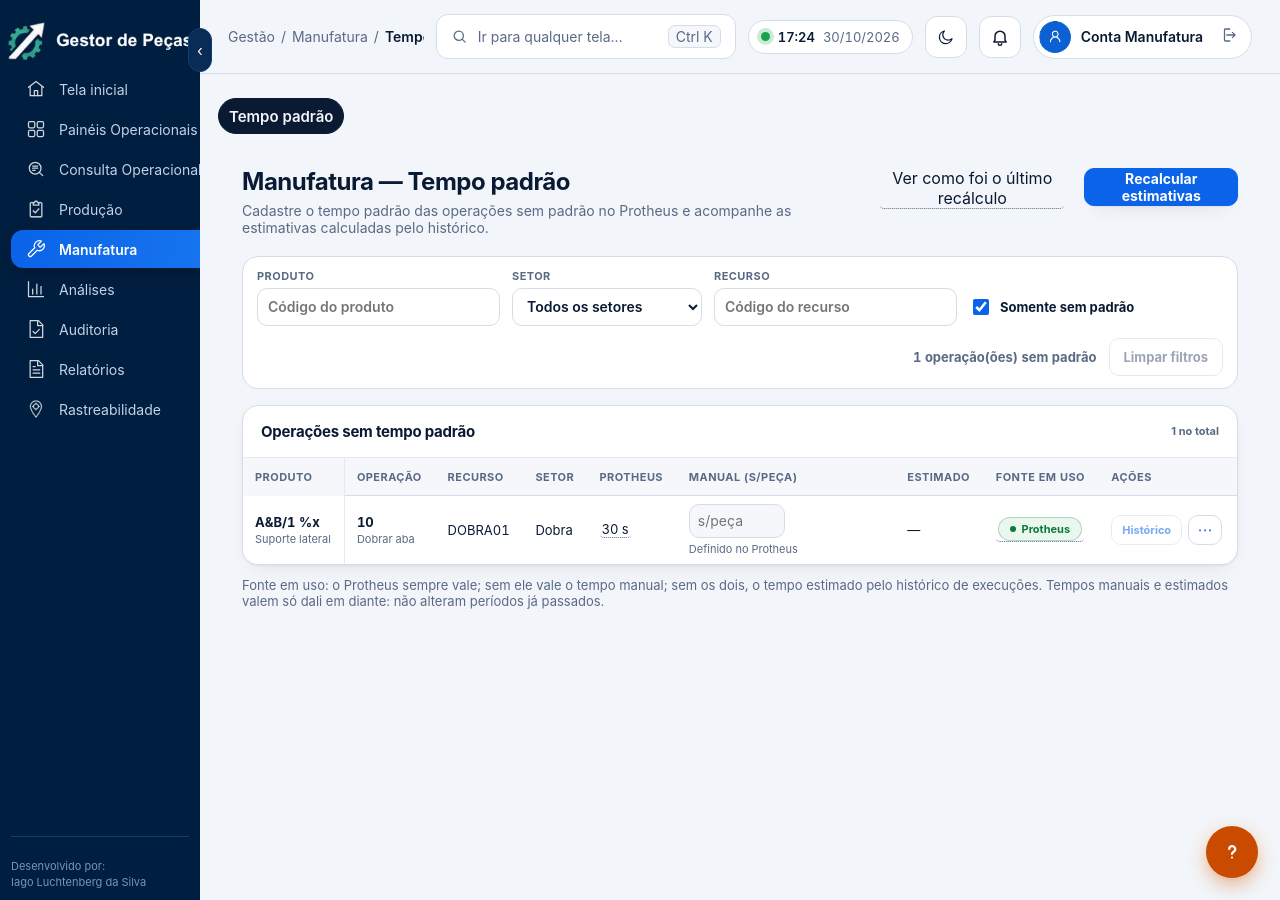
Tempo padrão: números clicáveis › código de produto com & / % e espaço vai codificado na URL, sem quebrar a chave
The width and height of the screenshot is (1280, 900).
Click the button named "Tempo Protheus 30 s" at (615, 530), box [600,521,631,538]
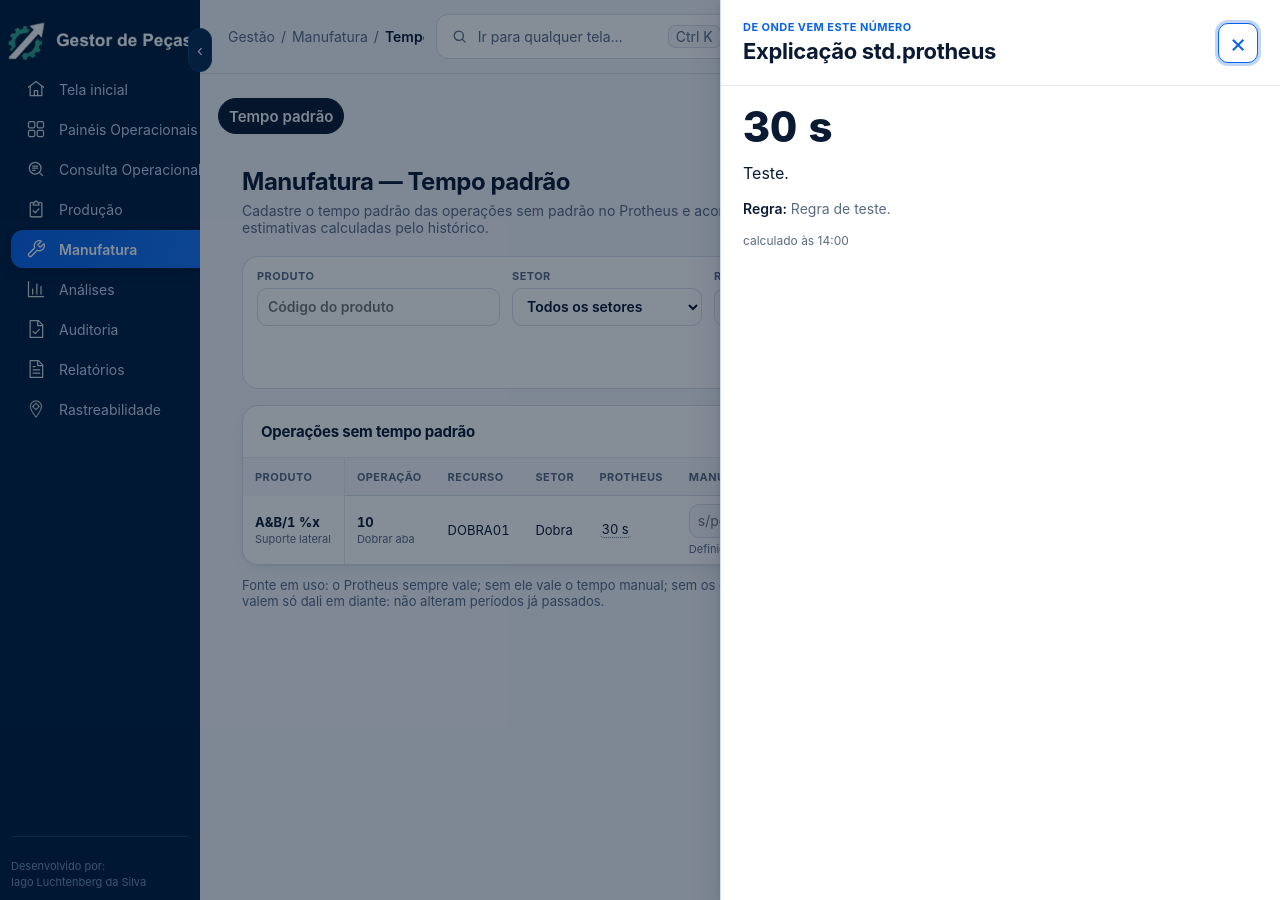
Check: the text "A&B/1 %x" is shown, box [255,514,320,530]
Check: the dialog is shown, box [720,0,1279,899]
